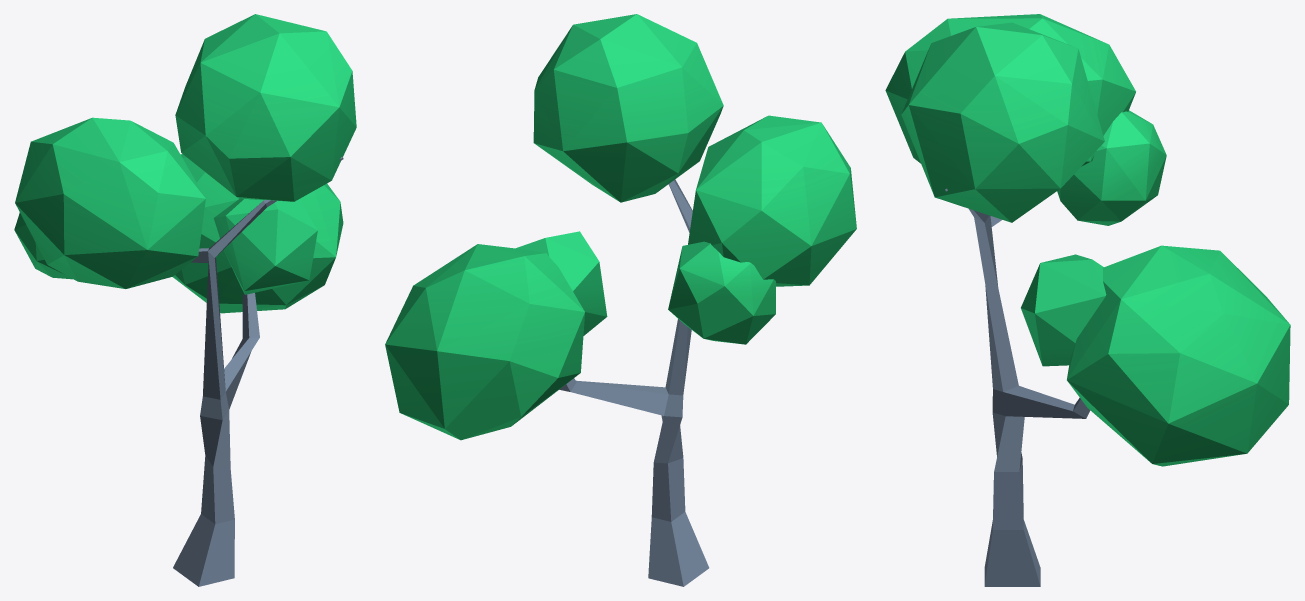
File: tree2.glb
3 renders of one model, left to right at view 1: azimuth 30°, elevation 25°; view 2: azimuth 150°, elevation 25°; view 3: azimuth 270°, elevation 25°, orthographic. The views are drawn at different scales.
Visible parts, largest first — view 1: Sphere.001, Sphere.003, Plane, Sphere.002, Sphere.004, Sphere; view 2: Sphere.002, Sphere.001, Sphere.003, Plane, Sphere, Sphere.004; view 3: Sphere.002, Sphere.001, Plane, Sphere, Sphere.003, Sphere.004.
Part boxes in pixels (x1,y1,x2,y2): Sphere.001: (175,14,356,201); Sphere.003: (15,117,205,288); Plane: (173,157,343,586); Sphere.002: (172,154,343,313); Sphere.004: (213,198,317,294); Sphere: (14,212,72,279); Sphere.002: (385,244,584,440); Sphere.001: (533,14,723,202); Sphere.003: (688,115,856,286); Plane: (559,179,709,586); Sphere: (668,241,775,344); Sphere.004: (516,231,607,335); Sphere.002: (1067,245,1290,466); Sphere.001: (901,22,1104,222); Plane: (945,188,1090,586); Sphere: (1057,110,1166,225); Sphere.003: (885,14,1135,166); Sphere.004: (1021,254,1106,366).
Size of what is drawn, in the model's own units: 16.6 by 22.86 by 14.43.
1 material, 1 textured.
